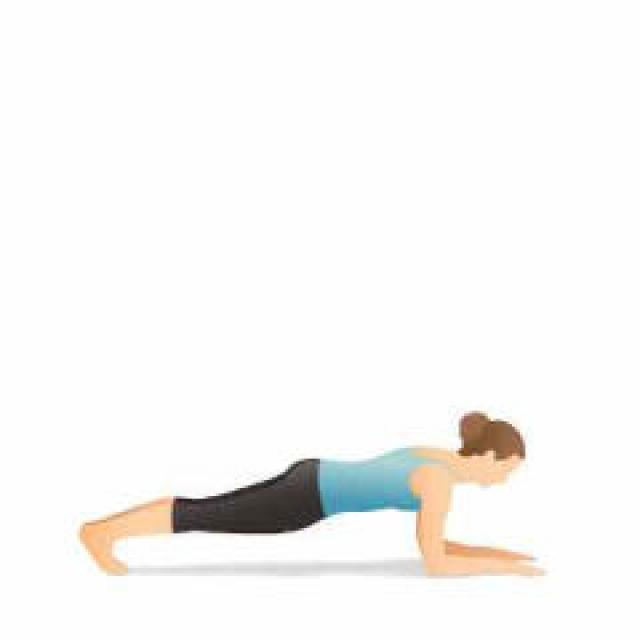yoga-pose plank: (70, 408, 538, 586)
